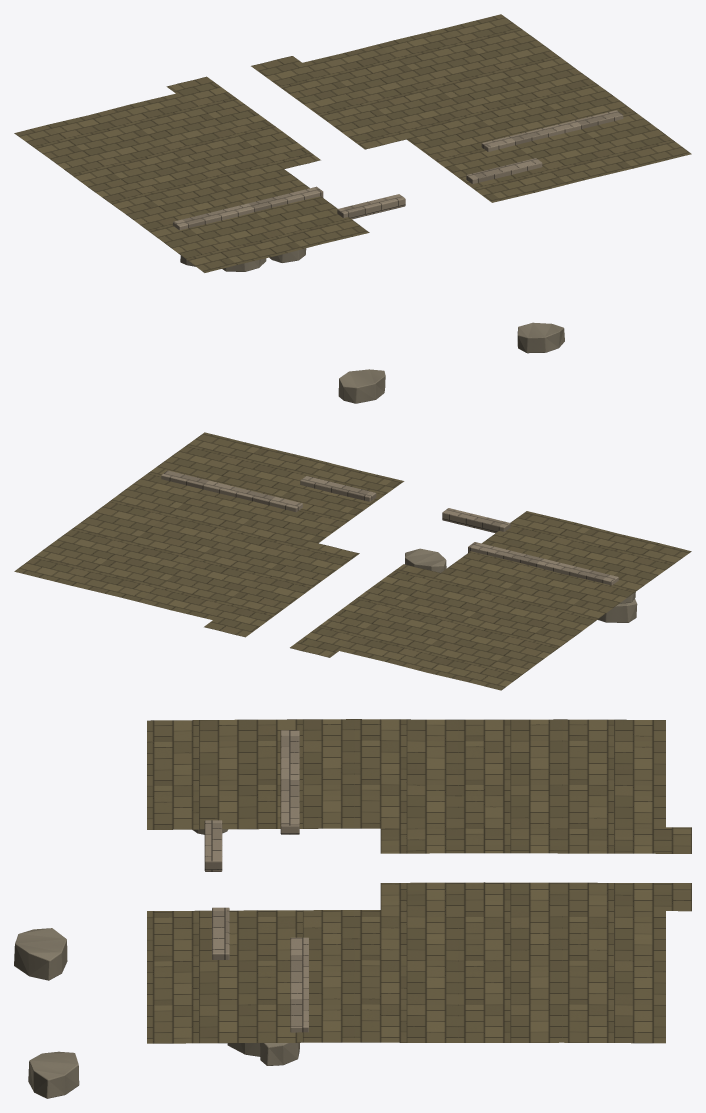
File: PremiumHeroContactUpliftV1.glb
The picture shows the model from 3 angles, top to bottom: view 1: azimuth 30°, elevation 25°; view 2: azimuth 150°, elevation 25°; view 3: azimuth 270°, elevation 25°; orthographic projection. The views are drawn at different scales.
Visible parts, largest first — view 1: HeroGround_East, HeroGround_West, HeroRoadVerge_East, HeroRoadVerge_West, GateFoundation_West, GateFoundation_East, ShoreRock_West, ShoreRock_East, RockContact_West; view 2: HeroGround_East, HeroGround_West, HeroRoadVerge_East, HeroRoadVerge_West, GateFoundation_West, GateFoundation_East, ShoreRock_East, ShoreRock_West; view 3: HeroGround_East, HeroGround_West, HeroRoadVerge_East, HeroRoadVerge_West, GateFoundation_West, GateFoundation_East, ShoreRock_West, ShoreRock_East, RockContact_East.
Part boxes in pixels (bbox=[...]): HeroGround_East: bbox=[302, 14, 691, 202]; HeroGround_West: bbox=[14, 93, 369, 272]; HeroRoadVerge_East: bbox=[251, 56, 405, 149]; HeroRoadVerge_West: bbox=[166, 76, 320, 168]; GateFoundation_West: bbox=[173, 186, 405, 230]; GateFoundation_East: bbox=[466, 110, 623, 183]; ShoreRock_West: bbox=[338, 369, 385, 403]; ShoreRock_East: bbox=[517, 322, 564, 353]; RockContact_West: bbox=[180, 248, 306, 271]; HeroGround_East: bbox=[14, 432, 404, 619]; HeroGround_West: bbox=[340, 511, 691, 690]; HeroRoadVerge_East: bbox=[204, 543, 359, 637]; HeroRoadVerge_West: bbox=[290, 564, 440, 657]; GateFoundation_West: bbox=[442, 508, 618, 585]; GateFoundation_East: bbox=[161, 470, 376, 512]; ShoreRock_East: bbox=[405, 548, 446, 572]; ShoreRock_West: bbox=[597, 599, 637, 622]; HeroGround_East: bbox=[147, 910, 665, 1043]; HeroGround_West: bbox=[147, 719, 665, 829]; HeroRoadVerge_East: bbox=[380, 882, 691, 911]; HeroRoadVerge_West: bbox=[380, 826, 691, 853]; GateFoundation_West: bbox=[204, 730, 299, 871]; GateFoundation_East: bbox=[212, 907, 308, 1032]; ShoreRock_West: bbox=[14, 928, 67, 980]; ShoreRock_East: bbox=[28, 1051, 79, 1098]; RockContact_East: bbox=[227, 1043, 299, 1065].
Size of the model in its own units: 29.5 by 7.33 by 26.13.
4 materials, 4 textured.
